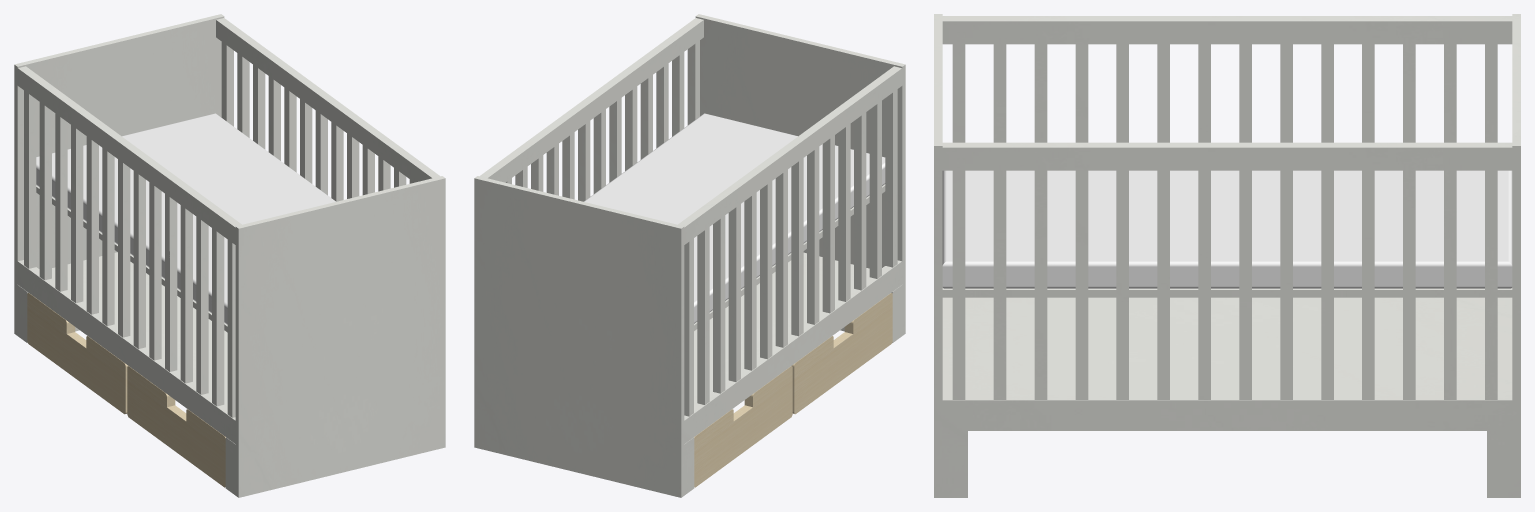
The model's file is children_2.glb.
3 views of the same model, side by side, from view 1: azimuth 30°, elevation 25°; view 2: azimuth 150°, elevation 25°; view 3: azimuth 270°, elevation 25° (orthographic). The views are drawn at different scales.
Visible parts, largest first — view 1: IKE160008; view 2: IKE160008; view 3: IKE160008.
Part boxes in pixels (x1=…): IKE160008: x1=14, y1=14, x2=445, y2=497; IKE160008: x1=474, y1=14, x2=905, y2=497; IKE160008: x1=934, y1=14, x2=1520, y2=497.
Size of the model in its own units: 74 by 92 by 139.
3 materials, 2 textured.
